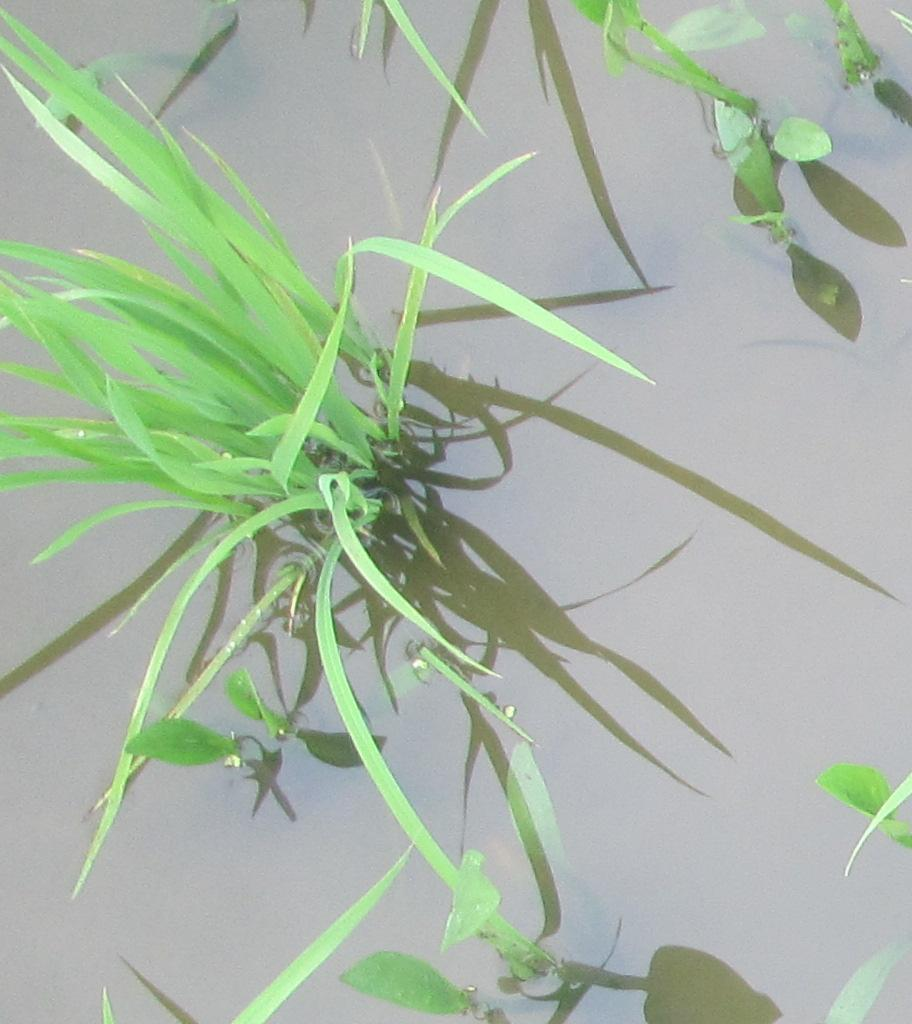Weed: (589, 2, 828, 228), (328, 847, 507, 1017), (108, 667, 299, 778)
